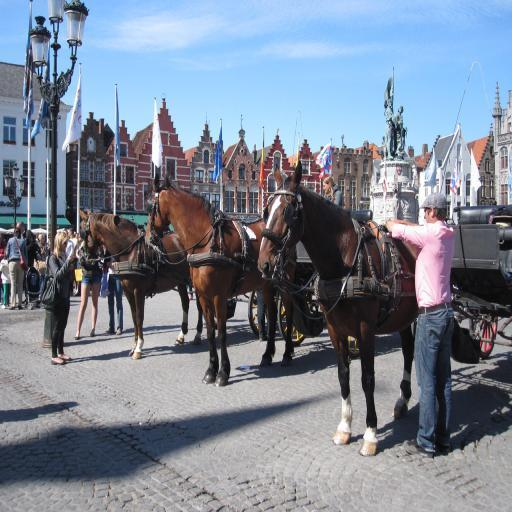horse: (258, 161, 426, 459), (144, 170, 296, 386), (78, 206, 190, 364)
